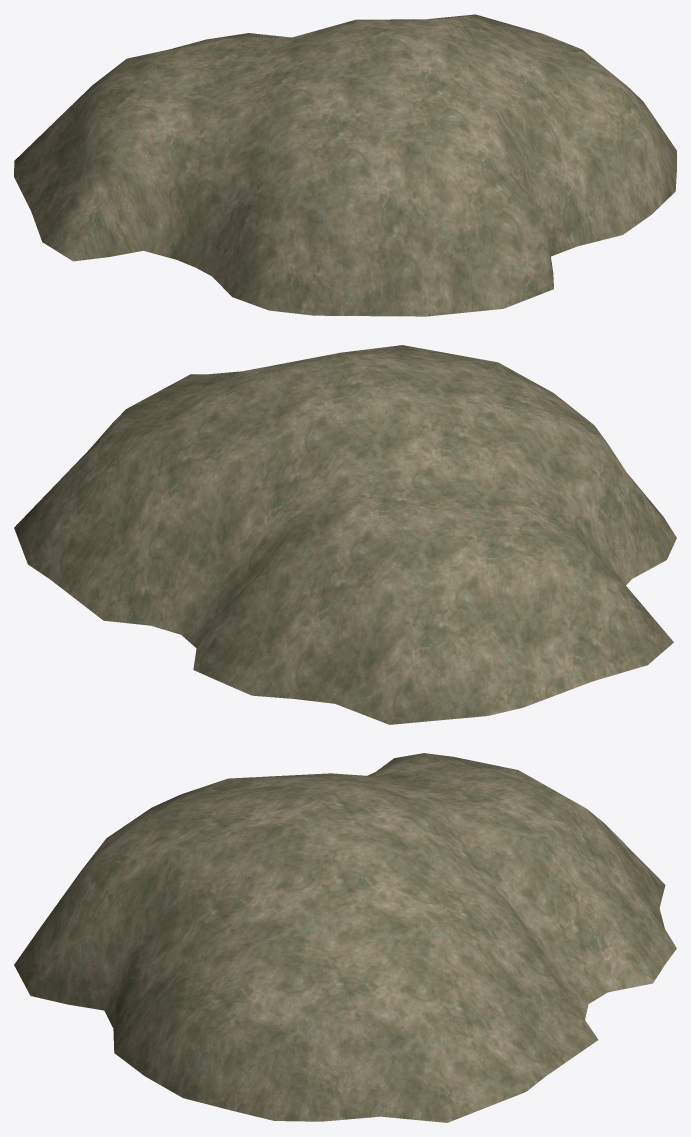
File: EKH_JAIL_PS_JA_SM_CAVE_ROOF893837.fbx
3 renders of one model, top to bottom at view 1: azimuth 30°, elevation 25°; view 2: azimuth 150°, elevation 25°; view 3: azimuth 270°, elevation 25°, orthographic. The views are drawn at different scales.
Parts seen in each view (by area): view 1: EKH_JAIL_PS_JA_SM_CAVE_ROOF893837; view 2: EKH_JAIL_PS_JA_SM_CAVE_ROOF893837; view 3: EKH_JAIL_PS_JA_SM_CAVE_ROOF893837.
Part boxes in pixels (<box>): EKH_JAIL_PS_JA_SM_CAVE_ROOF893837: <box>14,14,676,316</box>; EKH_JAIL_PS_JA_SM_CAVE_ROOF893837: <box>14,345,676,724</box>; EKH_JAIL_PS_JA_SM_CAVE_ROOF893837: <box>14,753,676,1122</box>.
Size of the model in its own units: 115537 by 32025 by 106114.
1 material, 1 textured.
